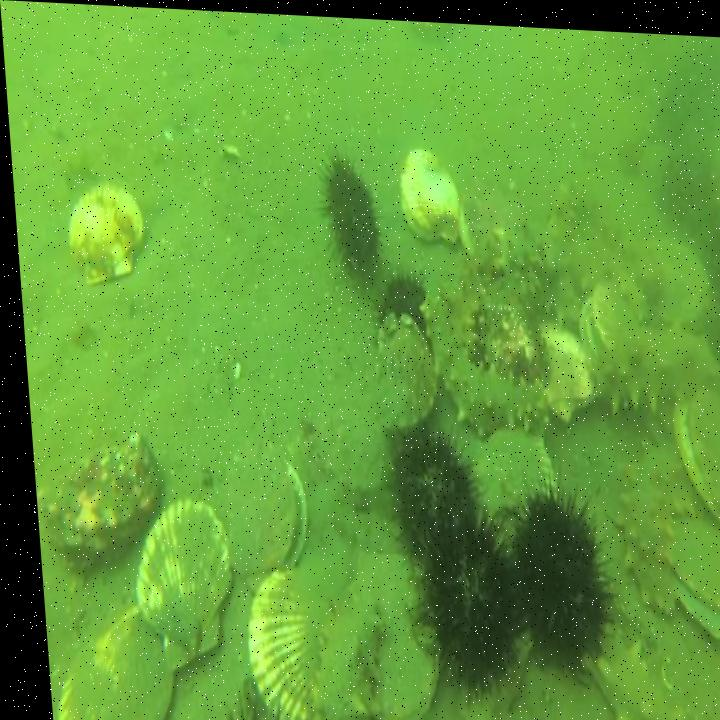echinus: (498, 476, 609, 676), (402, 499, 516, 692), (378, 418, 476, 562), (311, 146, 382, 283), (366, 261, 427, 344)
holothurian: (412, 284, 543, 437), (288, 563, 385, 720), (602, 427, 682, 611), (581, 626, 700, 720), (588, 329, 710, 415), (602, 212, 660, 300), (441, 252, 484, 355), (519, 262, 580, 325), (606, 250, 649, 319)
scallop: (119, 491, 232, 675), (35, 586, 171, 720), (342, 542, 437, 720), (208, 436, 307, 598), (232, 564, 314, 720), (57, 174, 148, 293), (458, 421, 554, 509), (659, 508, 720, 646), (666, 382, 720, 529), (390, 137, 464, 244), (649, 230, 711, 332), (536, 318, 593, 423), (570, 268, 608, 355)
